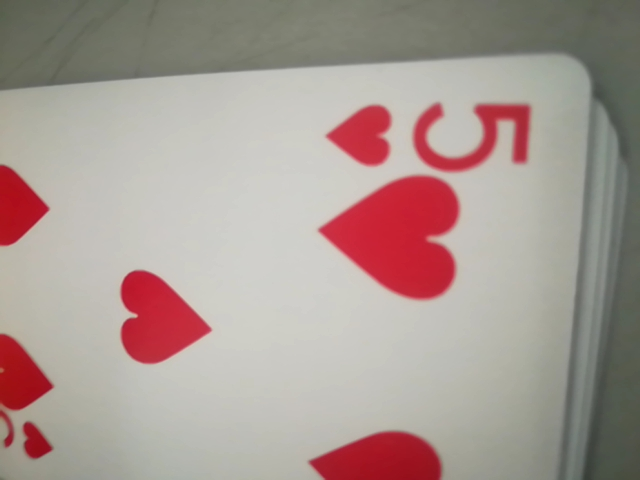hx 5: (322, 85, 535, 177)
